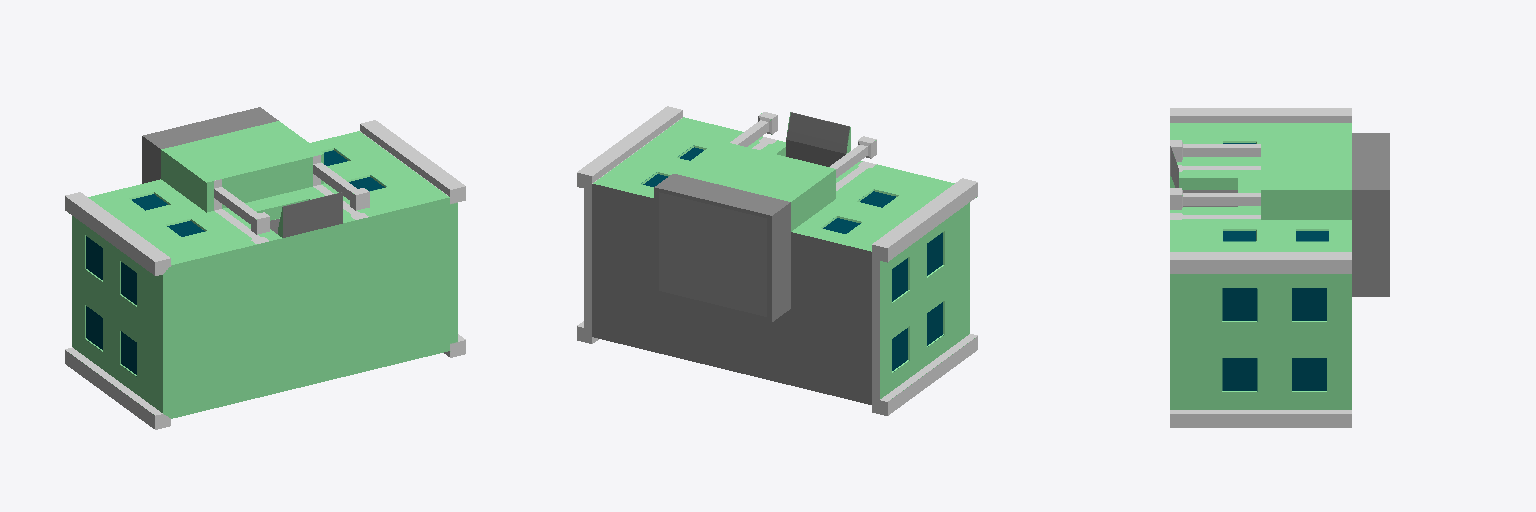
3 views of the same model, side by side, from view 1: azimuth 30°, elevation 25°; view 2: azimuth 150°, elevation 25°; view 3: azimuth 270°, elevation 25° (orthographic).
Parts seen in each view (by area): view 1: hospital_Plane.182; view 2: hospital_Plane.182; view 3: hospital_Plane.182.
Boxes of the visible parts, box(x1,y1,x2,y2) form: hospital_Plane.182: box(65, 107, 465, 429); hospital_Plane.182: box(577, 106, 977, 415); hospital_Plane.182: box(1170, 108, 1389, 427).
Size of the model in its own units: 16.4 by 9.68 by 10.02.
Materials: 1 (1 with a texture image).